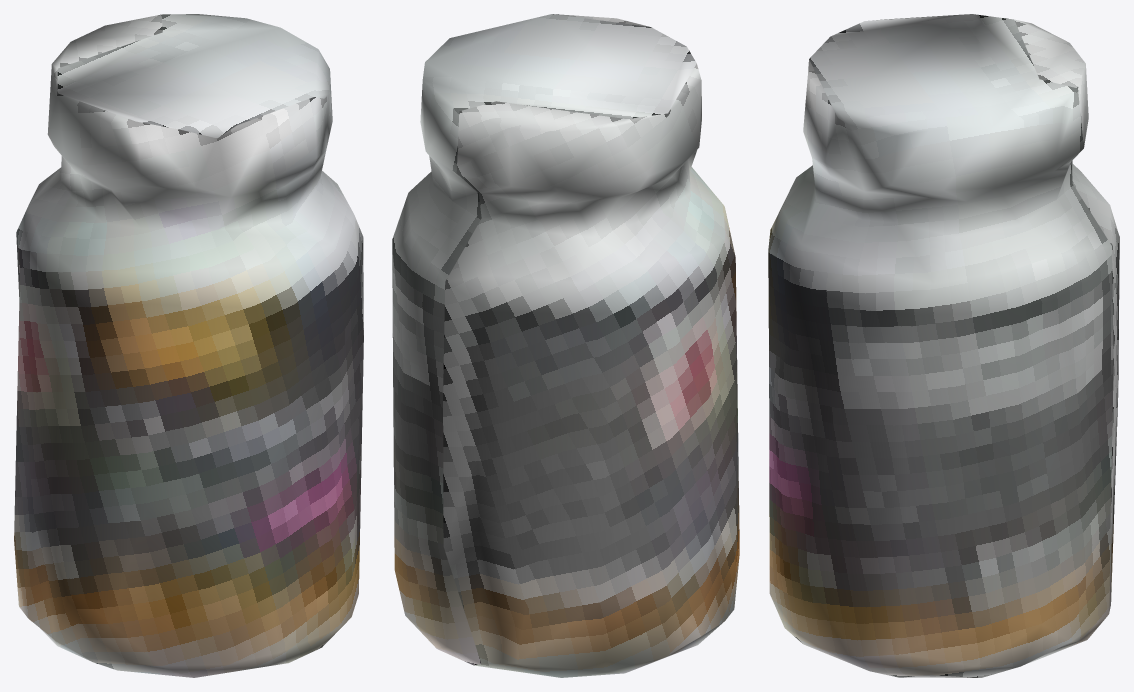
The model's file is QAbsorb_CoQ10_53iUqjWjW3O-low.glb.
3 views of the same model, side by side, from view 1: azimuth 30°, elevation 25°; view 2: azimuth 150°, elevation 25°; view 3: azimuth 270°, elevation 25° (orthographic).
Visible parts, largest first — view 1: QAbsorb_CoQ10_53iUqjWjW3O; view 2: QAbsorb_CoQ10_53iUqjWjW3O; view 3: QAbsorb_CoQ10_53iUqjWjW3O.
Boxes of the visible parts, x1,y1,x2,y2 form: QAbsorb_CoQ10_53iUqjWjW3O: [14, 14, 363, 677]; QAbsorb_CoQ10_53iUqjWjW3O: [392, 14, 739, 677]; QAbsorb_CoQ10_53iUqjWjW3O: [768, 14, 1119, 677].
Bounding box in the file's own units: 0.0566 × 0.0991 × 0.0571.
Materials: 1 (1 with a texture image).
